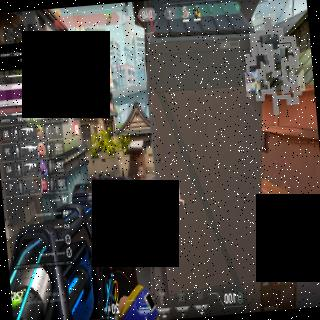ENEMY-BODY: (149, 177, 154, 189)
